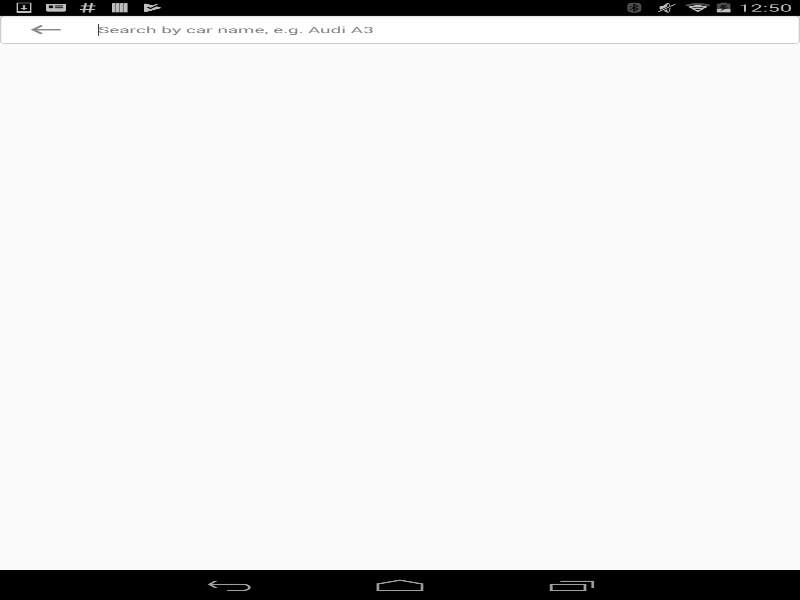Input: (98, 15, 722, 43)
